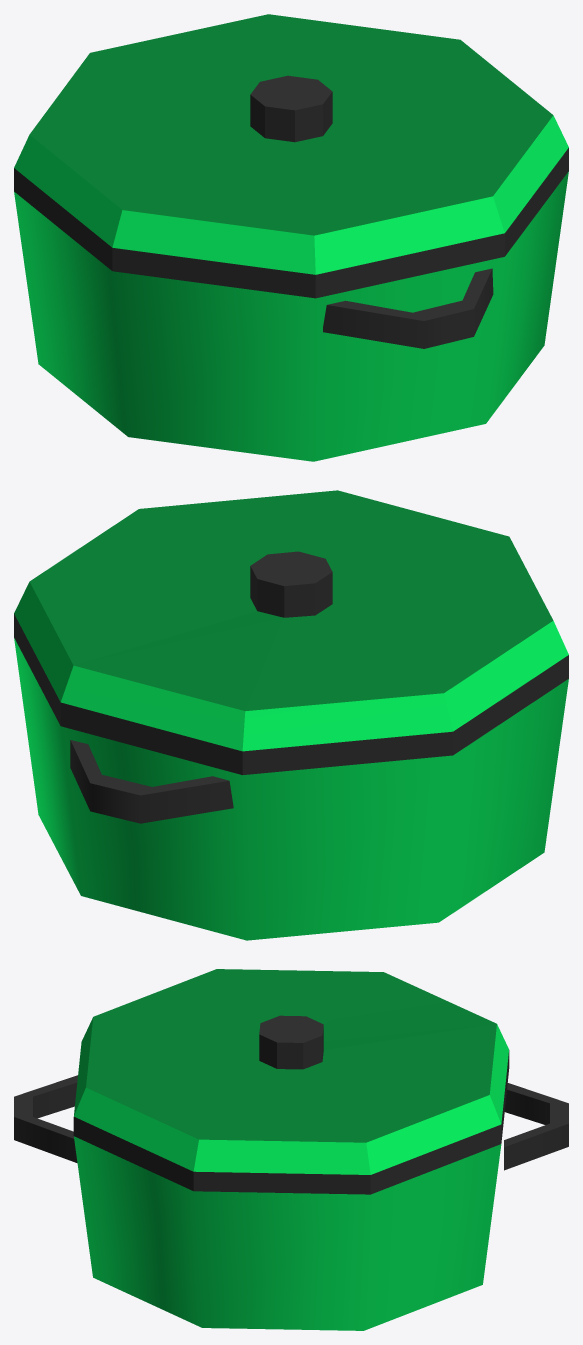
Rendered from Pot3.fbx.
3 views of the same model, one above another, from view 1: azimuth 30°, elevation 25°; view 2: azimuth 150°, elevation 25°; view 3: azimuth 270°, elevation 25° (orthographic). The views are drawn at different scales.
Parts seen in each view (by area): view 1: Pot3_Door, Pot3; view 2: Pot3_Door, Pot3; view 3: Pot3_Door, Pot3.
Part boxes in pixels (x1=…): Pot3_Door: x1=14, y1=14, x2=568, y2=298; Pot3: x1=14, y1=171, x2=568, y2=461; Pot3_Door: x1=14, y1=490, x2=568, y2=775; Pot3: x1=14, y1=638, x2=568, y2=940; Pot3_Door: x1=73, y1=969, x2=509, y2=1194; Pot3: x1=14, y1=1075, x2=568, y2=1330.
Bounding box in the file's own units: 36.44 × 20.11 × 46.46.
